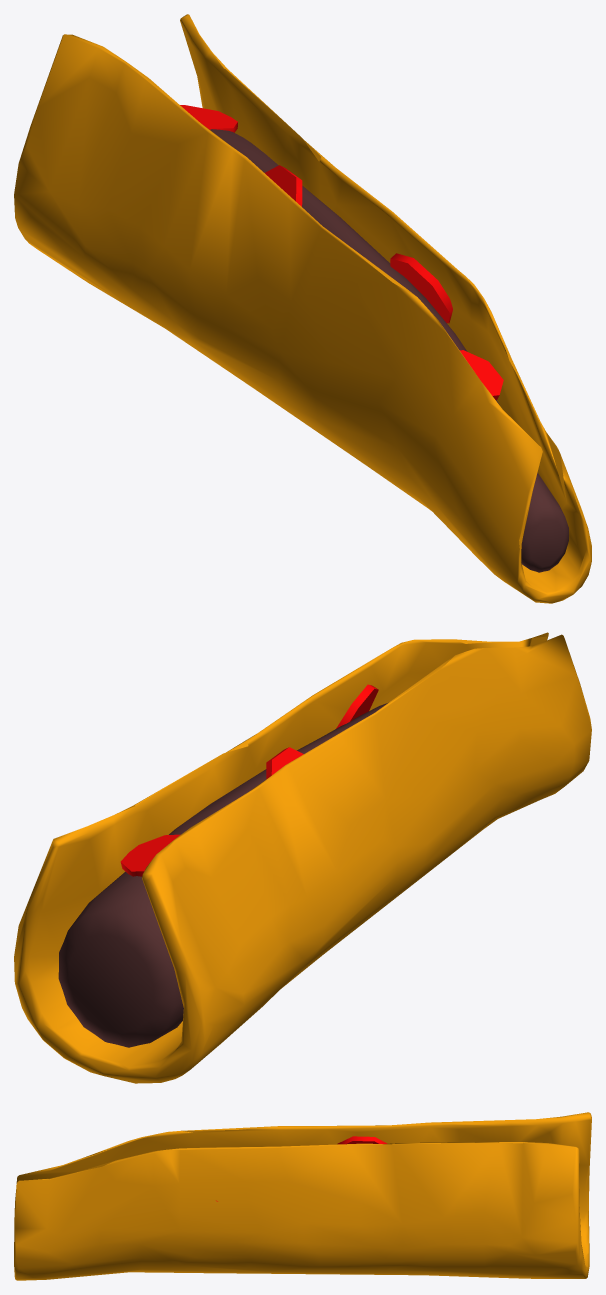
File: Tacos_Model.FBX
3 renders of one model, top to bottom at view 1: azimuth 30°, elevation 25°; view 2: azimuth 150°, elevation 25°; view 3: azimuth 270°, elevation 25°, orthographic. The views are drawn at different scales.
Visible parts, largest first — view 1: Plane003; view 2: Plane003; view 3: Plane003.
Boxes of the visible parts, x1,y1,x2,y2 form: Plane003: [14, 14, 591, 603]; Plane003: [14, 632, 591, 1083]; Plane003: [14, 1112, 591, 1280].
Bounding box in the file's own units: 5.74 × 6.51 × 22.08.
